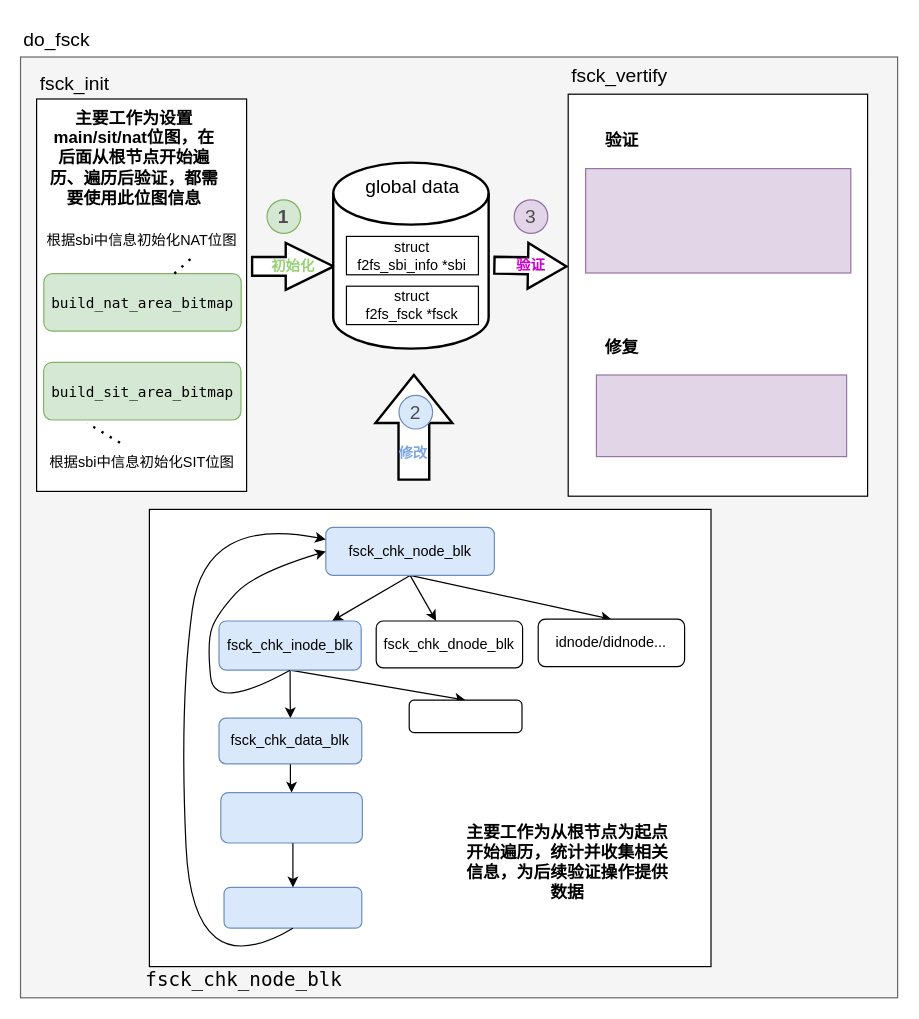
The diagram is 919 pixels wide and 1019 high, and some of its shapes have lost their labels. Here are the shapes that lost their labels. From the top down, the centre of each, then its label:
At [717,220]: "nat_area_bitmap是否清空？ main_area_bitmap == sit_area_bitmap? 链接数是否正确 ...".
At [721,415]: "fix_xxx_func".
At [465,716]: "meta data...".
At [291,817]: "fsck_chk_dentry_blk".
At [292,907]: "_chk_dentries".
